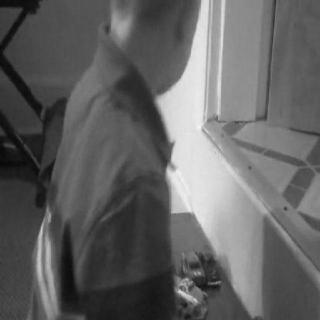other: (172, 266, 206, 318)
